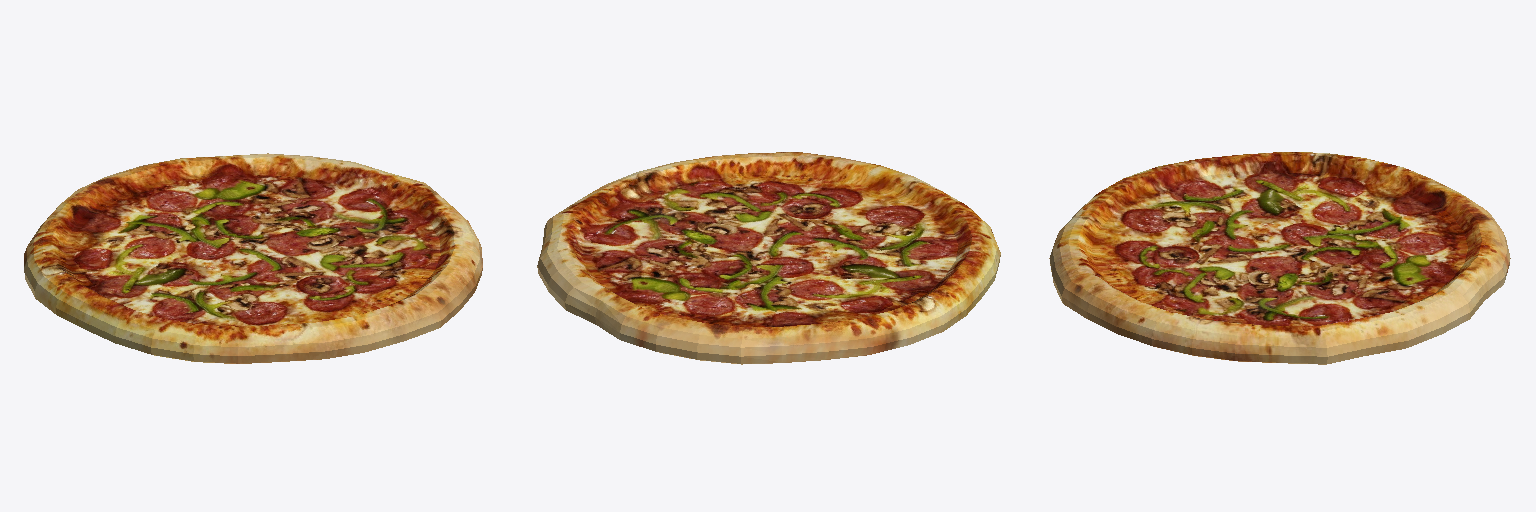
The picture shows the model from 3 angles: view 1: azimuth 30°, elevation 25°; view 2: azimuth 150°, elevation 25°; view 3: azimuth 270°, elevation 25°; orthographic projection.
Parts seen in each view (by area): view 1: Circle.001; view 2: Circle.001; view 3: Circle.001.
Boxes of the visible parts, box(x1,y1,x2,y2) form: Circle.001: box(24, 153, 482, 363); Circle.001: box(537, 152, 1000, 364); Circle.001: box(1049, 152, 1510, 364).
Bounding box in the file's own units: 2.09 × 0.1443 × 2.09.
Materials: 1 (1 with a texture image).